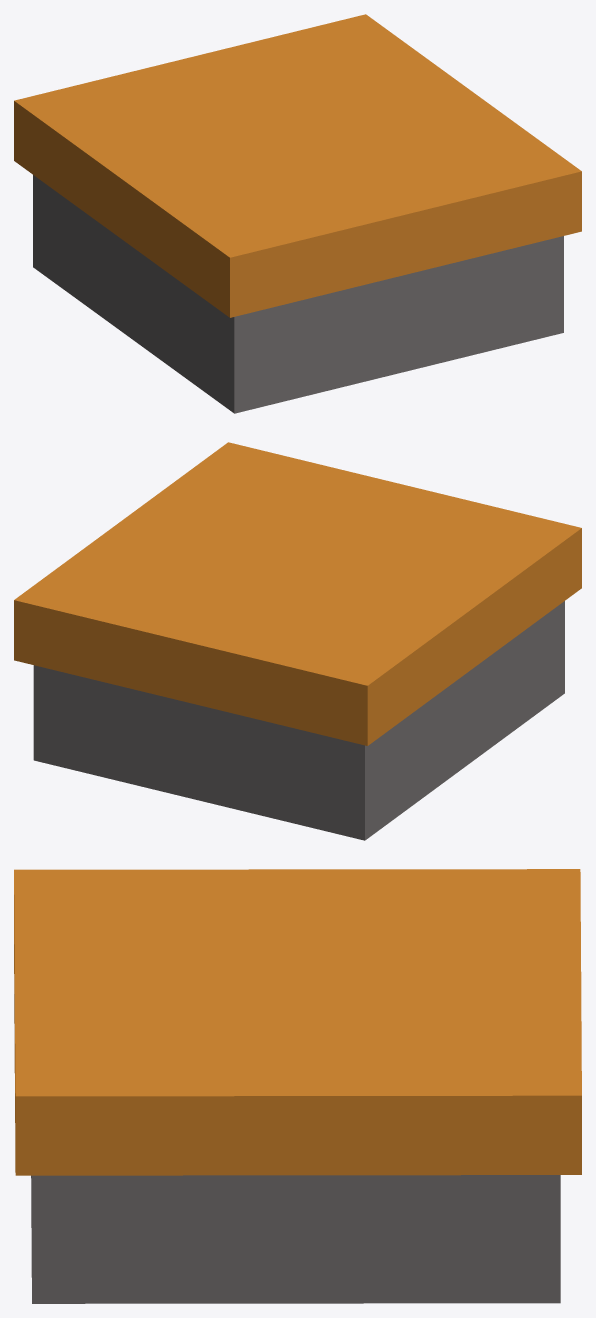
The model's file is orange-box.dae.
3 views of the same model, one above another, from view 1: azimuth 30°, elevation 25°; view 2: azimuth 150°, elevation 25°; view 3: azimuth 270°, elevation 25° (orthographic). The views are drawn at different scales.
Parts seen in each view (by area): view 1: group_2, group_1; view 2: group_2, group_1; view 3: group_2, group_1.
Boxes of the visible parts, x1=… form: group_2: x1=14, y1=14, x2=581, y2=317; group_1: x1=33, y1=175, x2=563, y2=413; group_2: x1=14, y1=442, x2=581, y2=745; group_1: x1=33, y1=601, x2=564, y2=840; group_2: x1=14, y1=869, x2=581, y2=1175; group_1: x1=31, y1=1175, x2=560, y2=1303.
Bounding box in the file's own units: 18.76 × 19.81 × 8.27.
